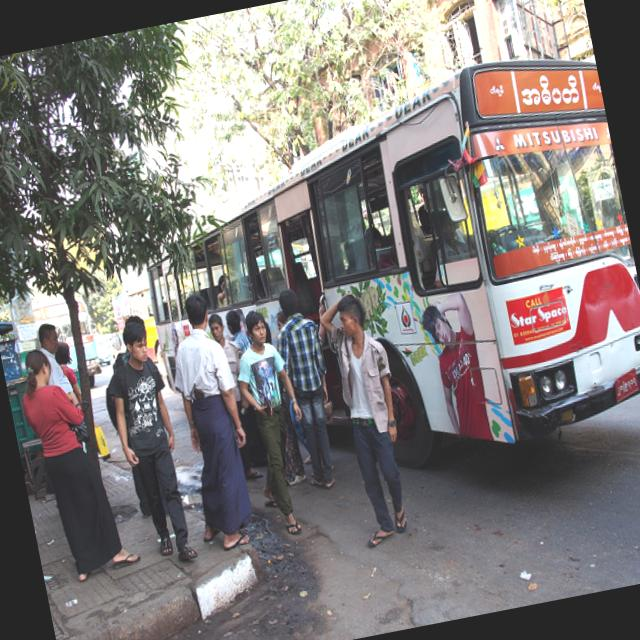Vehicle: (118, 39, 640, 508), (32, 294, 108, 399)
